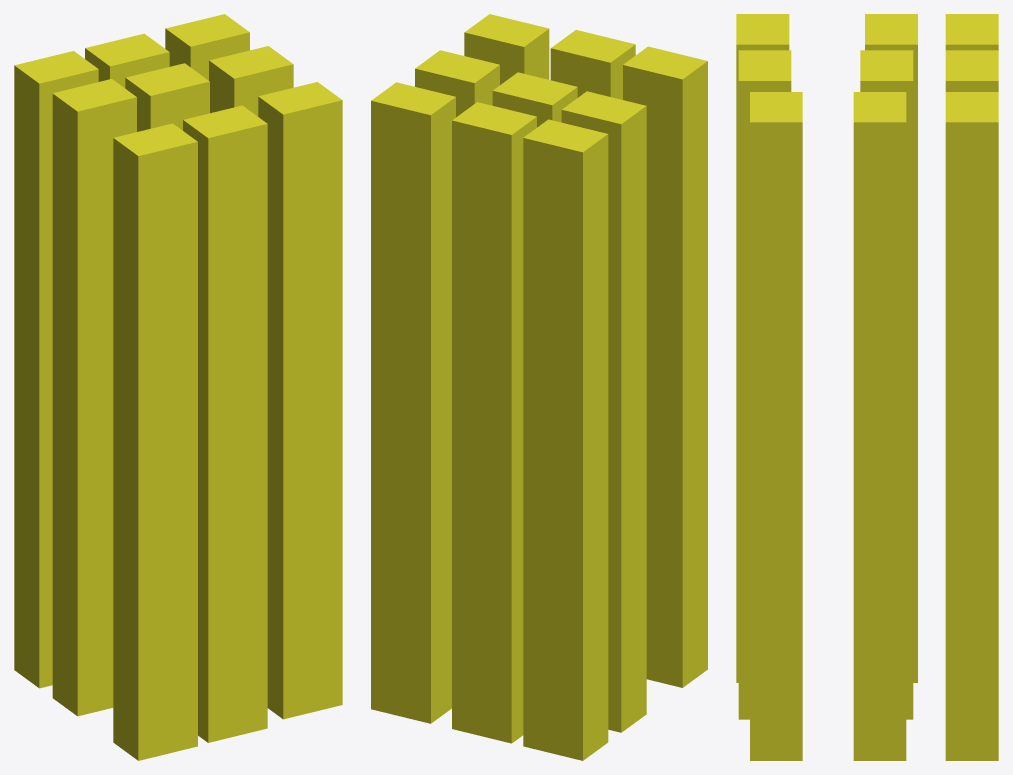
The model's file is wheat_3.glb.
3 renders of one model, left to right at view 1: azimuth 30°, elevation 25°; view 2: azimuth 150°, elevation 25°; view 3: azimuth 270°, elevation 25°, orthographic. The views are drawn at different scales.
Visible parts, largest first — view 1: Cube.008, Cube.006, Cube.007, Cube.002, Cube, Cube.005, Cube.003, Cube.004, Cube.001; view 2: Cube, Cube.004, Cube.001, Cube.008, Cube.002, Cube.007, Cube.006, Cube.005, Cube.003; view 3: Cube.004, Cube.005, Cube.006, Cube.007, Cube.003, Cube.002, Cube.008, Cube.001, Cube.
Boxes of the visible parts, bbox=[...] form: Cube.008: bbox=[113, 123, 197, 760]; Cube.006: bbox=[258, 82, 342, 719]; Cube.007: bbox=[183, 105, 267, 742]; Cube.002: bbox=[52, 79, 136, 716]; Cube: bbox=[14, 51, 98, 688]; Cube.005: bbox=[209, 46, 293, 116]; Cube.003: bbox=[125, 63, 209, 131]; Cube.004: bbox=[165, 14, 249, 80]; Cube.001: bbox=[85, 33, 169, 88]; Cube: bbox=[523, 119, 608, 760]; Cube.004: bbox=[371, 82, 455, 723]; Cube.001: bbox=[452, 102, 536, 743]; Cube.008: bbox=[623, 46, 707, 687]; Cube.002: bbox=[561, 91, 646, 732]; Cube.007: bbox=[550, 30, 635, 99]; Cube.006: bbox=[464, 14, 549, 84]; Cube.005: bbox=[415, 50, 499, 117]; Cube.003: bbox=[492, 72, 577, 127]; Cube.004: bbox=[945, 92, 998, 760]; Cube.005: bbox=[853, 92, 906, 760]; Cube.006: bbox=[750, 92, 802, 760]; Cube.007: bbox=[738, 50, 791, 719]; Cube.003: bbox=[860, 50, 913, 719]; Cube.002: bbox=[865, 14, 917, 682]; Cube.008: bbox=[736, 14, 789, 682]; Cube.001: bbox=[945, 50, 998, 91]; Cube: bbox=[945, 14, 998, 50].
Size of the model in its own units: 0.7286 by 2 by 0.7439.
